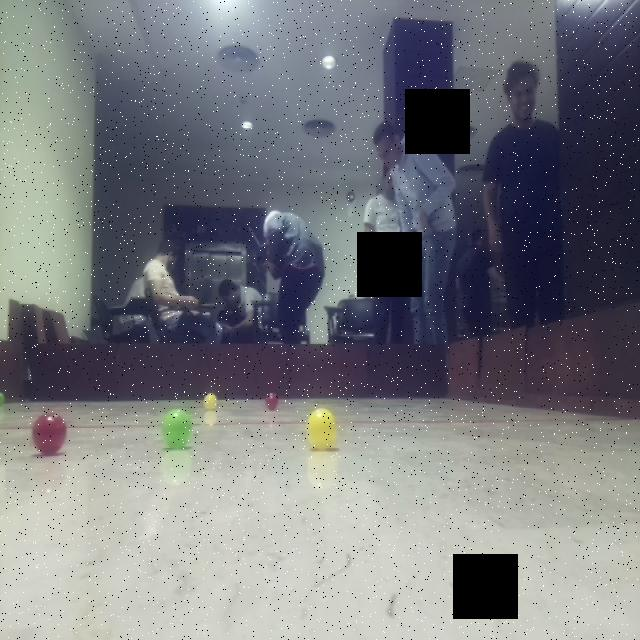ball: (29, 406, 69, 454), (158, 408, 199, 452), (198, 391, 222, 412), (262, 390, 284, 412)
